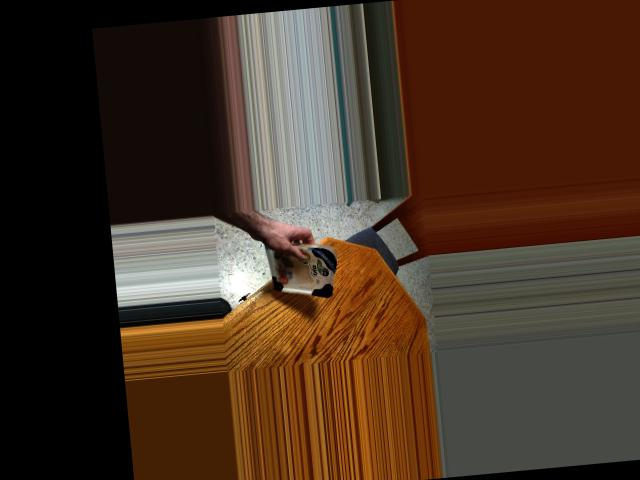cheese: (253, 236, 342, 299)
